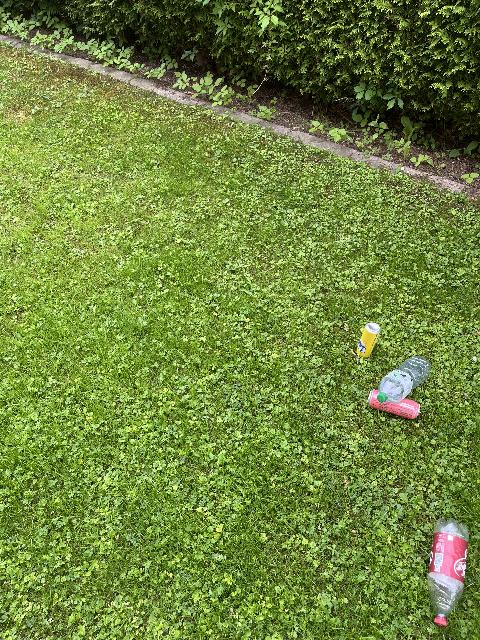can: (365, 388, 421, 419), (355, 321, 382, 360)
plastic_bottle: (429, 516, 471, 626), (376, 353, 431, 405)
